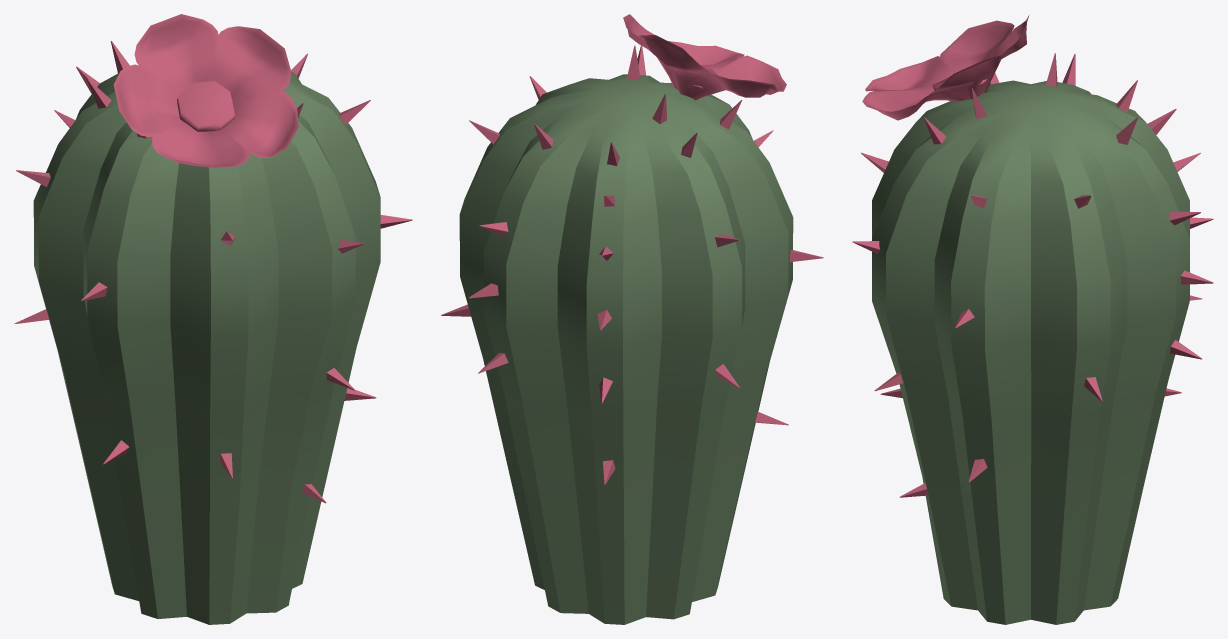
Rendered from SM_cactusB_v1.fbx.
3 renders of one model, left to right at view 1: azimuth 30°, elevation 25°; view 2: azimuth 150°, elevation 25°; view 3: azimuth 270°, elevation 25°, orthographic. The views are drawn at different scales.
Visible parts, largest first — view 1: polySurface33; view 2: polySurface33; view 3: polySurface33.
Boxes of the visible parts, x1=… form: polySurface33: x1=14, y1=14, x2=412, y2=624; polySurface33: x1=441, y1=14, x2=823, y2=624; polySurface33: x1=852, y1=15, x2=1213, y2=624.
Size of the model in its own units: 1.12 by 1.86 by 1.1.
